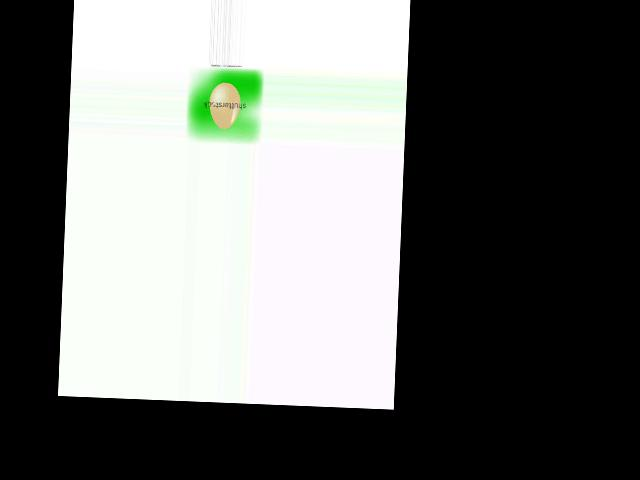egg: (207, 82, 240, 129)
